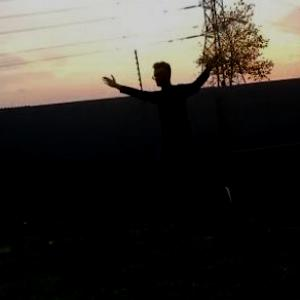takeoff: (104, 51, 226, 208)
